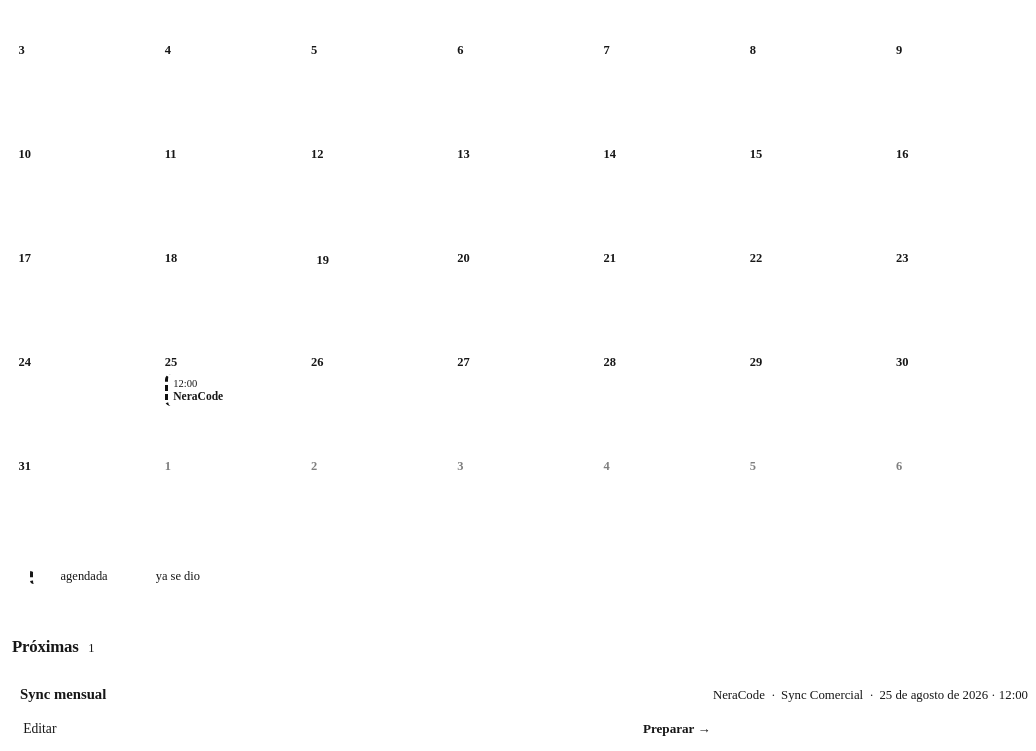
PanelAgenda — "Editar" sigue funcionando desde "Próximas" tras la mudanza › CRÍTICO C2: al editar una junta YA clasificada, el formulario arranca en su clase real, no en "Estatus de UDN" por defecto
(page scrolled)
Click the button "Editar" at {"x": 40, "y": 728}, box 20,717 -> 60,740
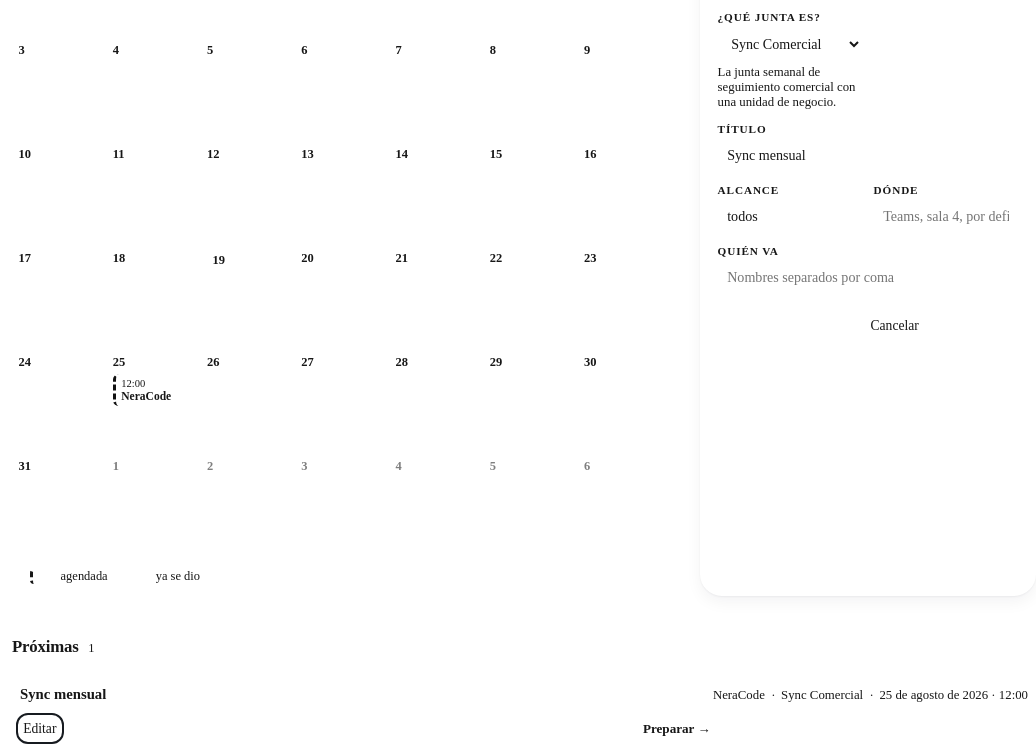
Now the dropdown labelled "Qué junta es" shows "Sync Comercial", box 718,28 -> 862,60
